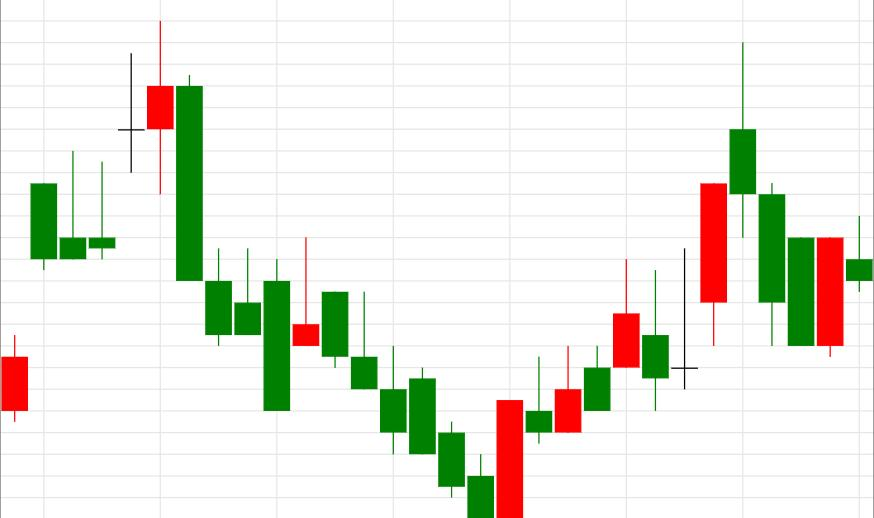bullish_engulfing_rise: (322, 292, 523, 518)
